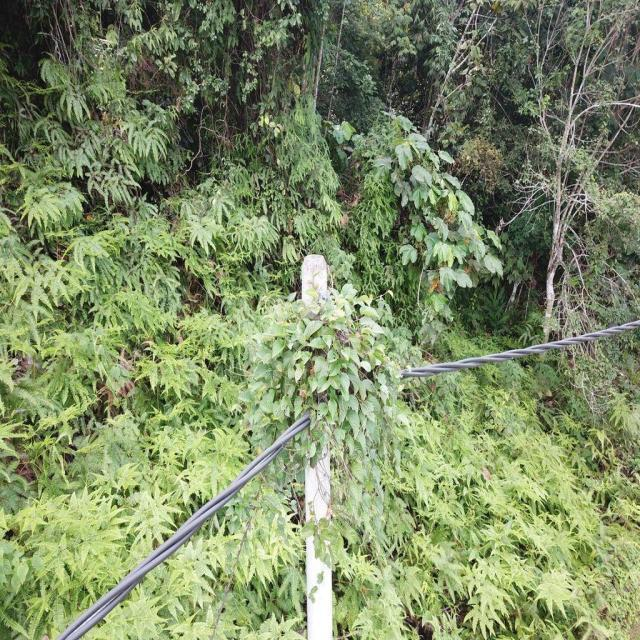critical vegetation: (240, 276, 414, 631)
